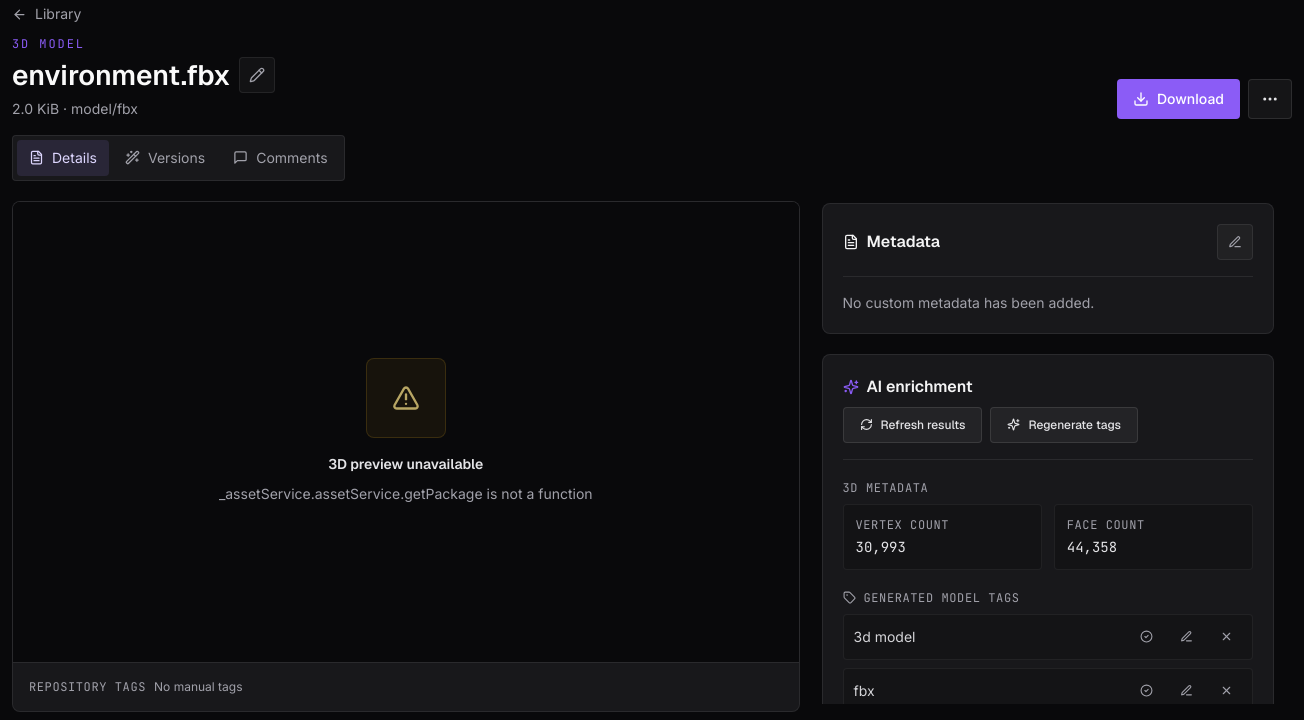
Test case: owner can edit another uploader asset; mismatched workspace never falls back to uploader
Later steps or results of the test are not shown.
Click the button named "More actions" at (1270, 98), box [1248,78,1292,118]
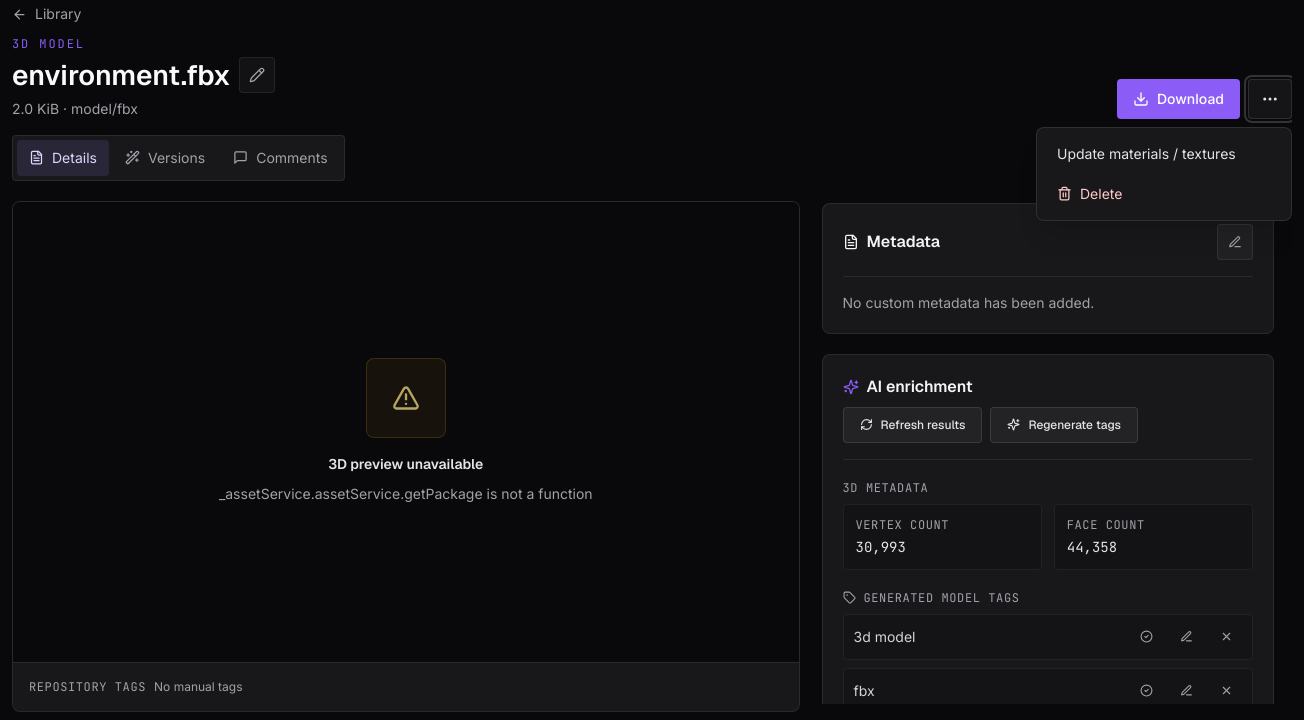
Check: the button "Delete" is shown, box [1045,176,1283,212]
